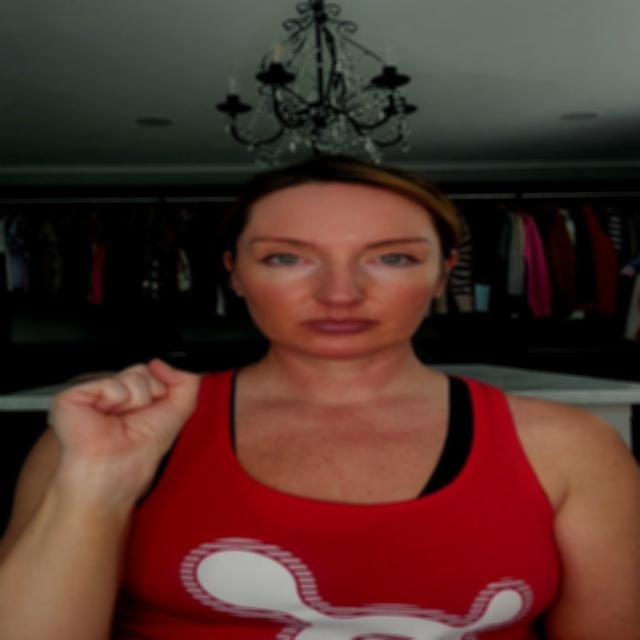Rock: (47, 360, 201, 459)
